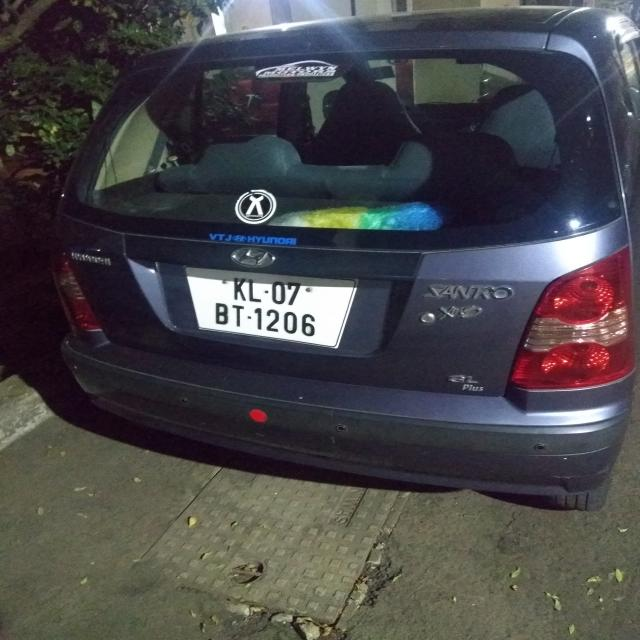Number-Plate: (199, 281, 342, 336)
